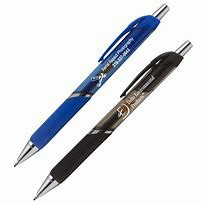pen: (10, 2, 162, 167), (34, 40, 191, 198)
